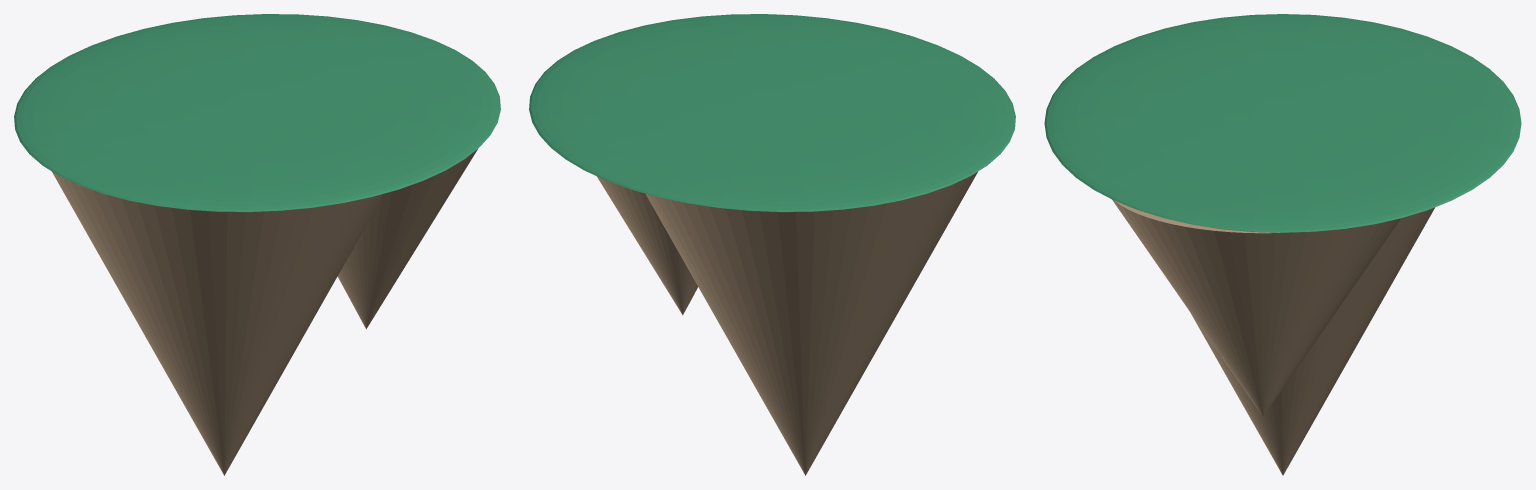
The model's file is platform a-hop.glb.
3 renders of one model, left to right at view 1: azimuth 30°, elevation 25°; view 2: azimuth 150°, elevation 25°; view 3: azimuth 270°, elevation 25°, orthographic. The views are drawn at different scales.
Parts seen in each view (by area): view 1: Mesh_Mesh_head_geo.001_lambert2SG.001; view 2: Mesh_Mesh_head_geo.001_lambert2SG.001; view 3: Mesh_Mesh_head_geo.001_lambert2SG.001.
Boxes of the visible parts, x1,y1,x2,y2 form: Mesh_Mesh_head_geo.001_lambert2SG.001: (14, 14, 500, 475); Mesh_Mesh_head_geo.001_lambert2SG.001: (529, 14, 1015, 475); Mesh_Mesh_head_geo.001_lambert2SG.001: (1044, 14, 1521, 475).
Bounding box in the file's own units: 26 × 21 × 24.
